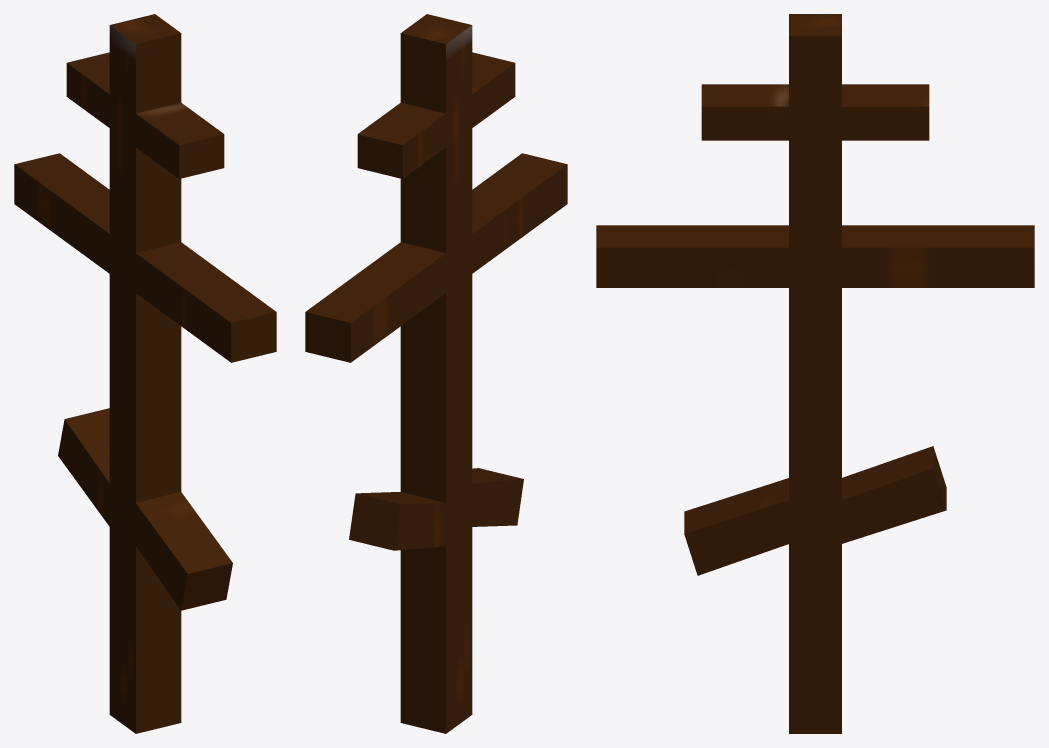
Rendered from Крест.fbx.
3 renders of one model, left to right at view 1: azimuth 30°, elevation 25°; view 2: azimuth 150°, elevation 25°; view 3: azimuth 270°, elevation 25°, orthographic.
Visible parts, largest first — view 1: крест; view 2: крест; view 3: крест.
Part boxes in pixels (<box>): крест: <box>14,14,276,733</box>; крест: <box>305,14,567,733</box>; крест: <box>596,14,1034,733</box>.
Size of the model in its own units: 48.28 by 703 by 400.
1 material, 1 textured.
